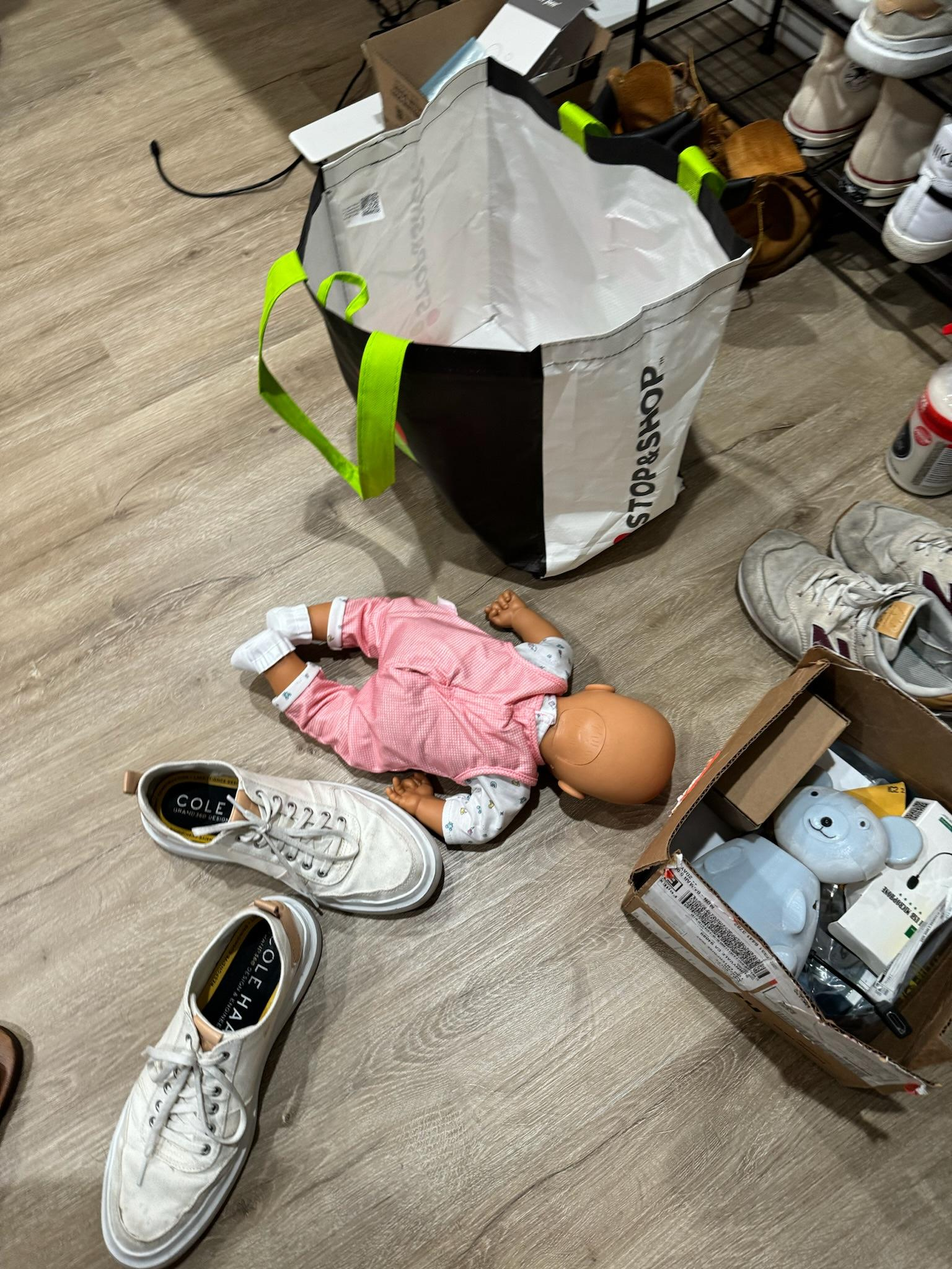baby: (227, 562, 694, 855)
